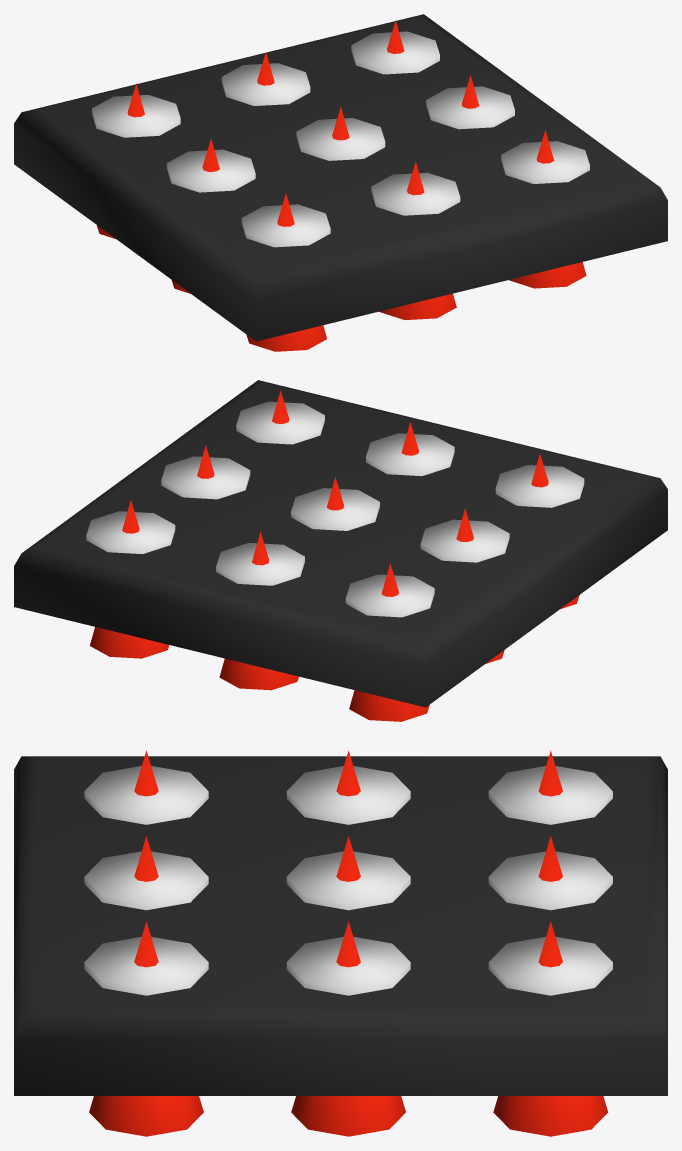
The model's file is Spike.fbx.
The picture shows the model from 3 angles, top to bottom: view 1: azimuth 30°, elevation 25°; view 2: azimuth 150°, elevation 25°; view 3: azimuth 270°, elevation 25°; orthographic projection. The views are drawn at different scales.
Visible parts, largest first — view 1: spike-obstacle, spike-obstacle.002; view 2: spike-obstacle, spike-obstacle.002; view 3: spike-obstacle, spike-obstacle.002.
Part boxes in pixels (bbox=[...]): spike-obstacle: bbox=[14, 14, 667, 341]; spike-obstacle.002: bbox=[97, 20, 586, 351]; spike-obstacle: bbox=[14, 380, 667, 707]; spike-obstacle.002: bbox=[90, 390, 579, 721]; spike-obstacle: bbox=[14, 756, 667, 1095]; spike-obstacle.002: bbox=[89, 750, 608, 1136].
Size of the model in its own units: 231 by 76.01 by 236.
